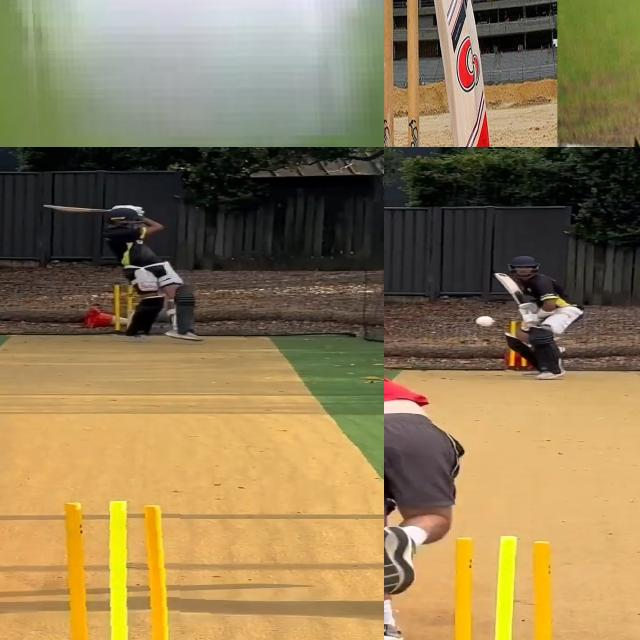Cricket ball: (19, 0, 384, 147), (473, 314, 497, 329)
Stumps: (44, 501, 179, 640), (433, 534, 568, 640), (384, 0, 418, 147)
